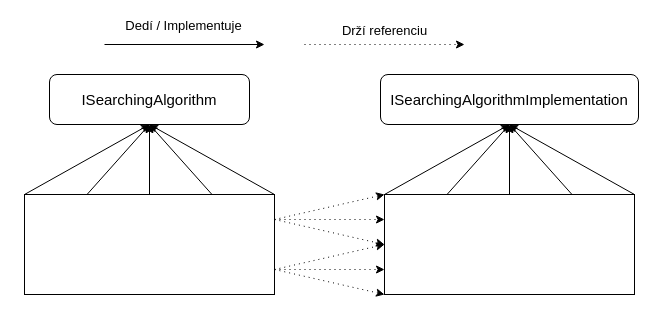
The diagram is 660 pixels wide and 320 high, and some of its shapes have lost their labels. Here are the shapes that lost their labels. From the top down, the centre of each, then its label:
the point at 149,244: Triedy reprezentujúce vyhľadávacie algoritmy
the point at 509,244: Triedy imlementujúce vyhľadávacie algoritmy
